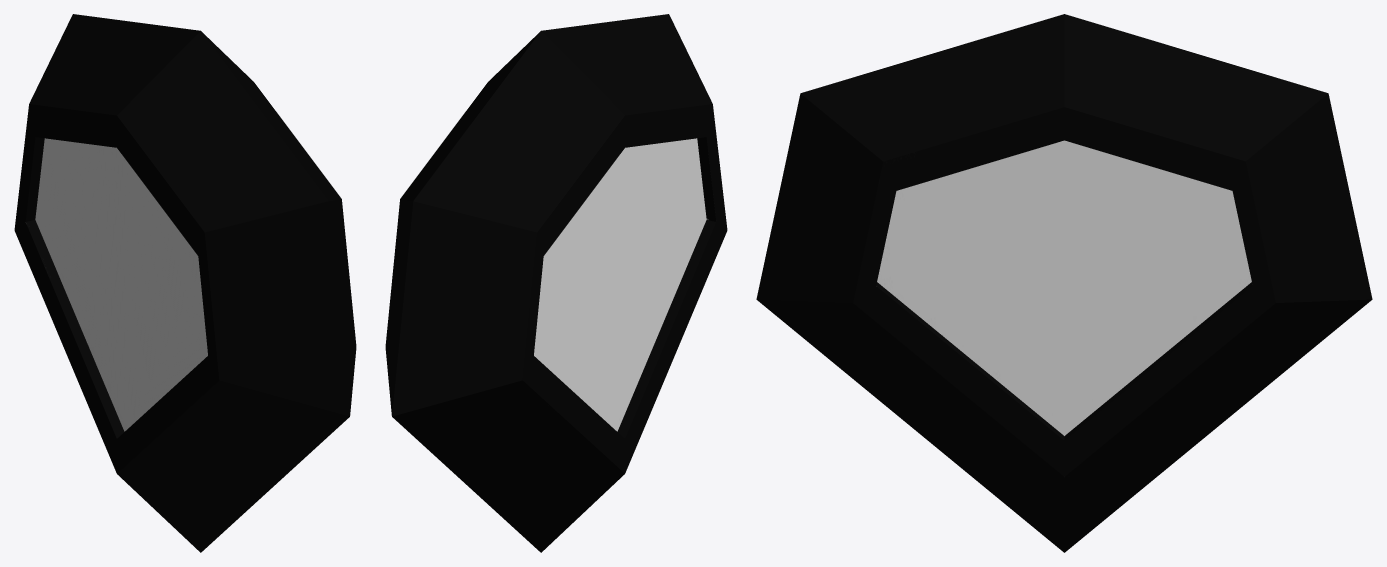
Rendered from emissoned crystal.fbx.
3 views of the same model, side by side, from view 1: azimuth 30°, elevation 25°; view 2: azimuth 150°, elevation 25°; view 3: azimuth 270°, elevation 25° (orthographic). The views are drawn at different scales.
Parts seen in each view (by area): view 1: Cube.001; view 2: Cube.001; view 3: Cube.001.
Part boxes in pixels (x1,y1,x2,y2): Cube.001: [14, 14, 356, 552]; Cube.001: [385, 14, 727, 552]; Cube.001: [756, 14, 1372, 552].
Bounding box in the file's own units: 4.71 × 17.12 × 17.73.
1 material, 1 textured.
